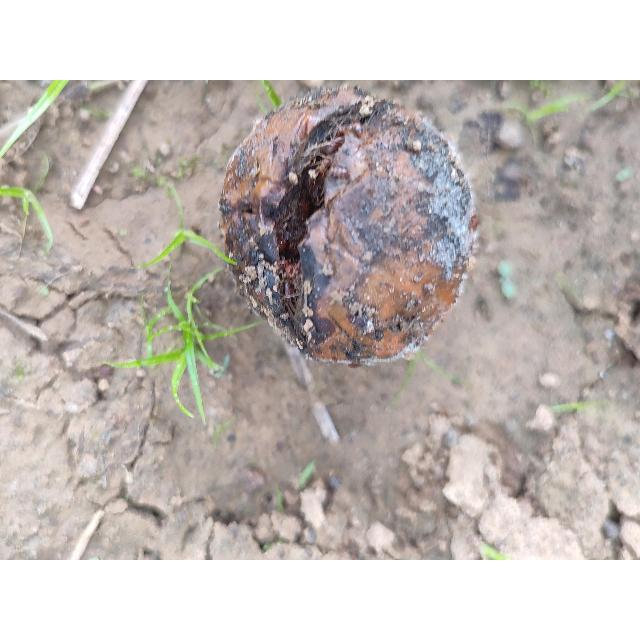damaged: (217, 86, 480, 368)
